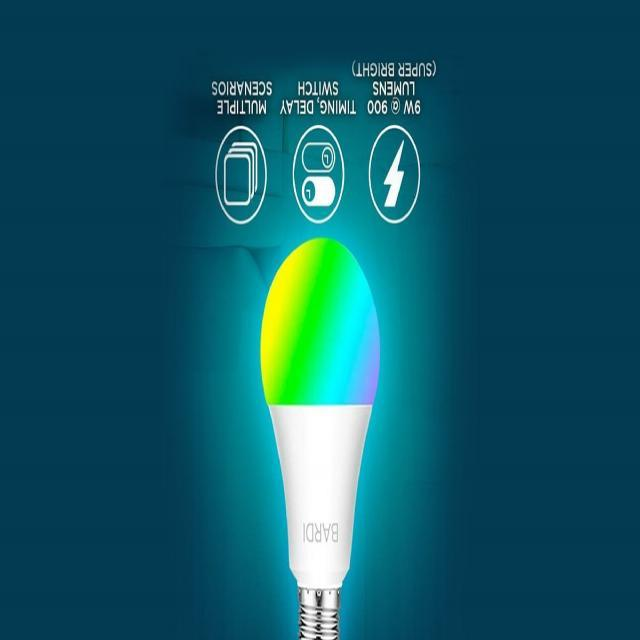light_bulb: (254, 228, 390, 636)
